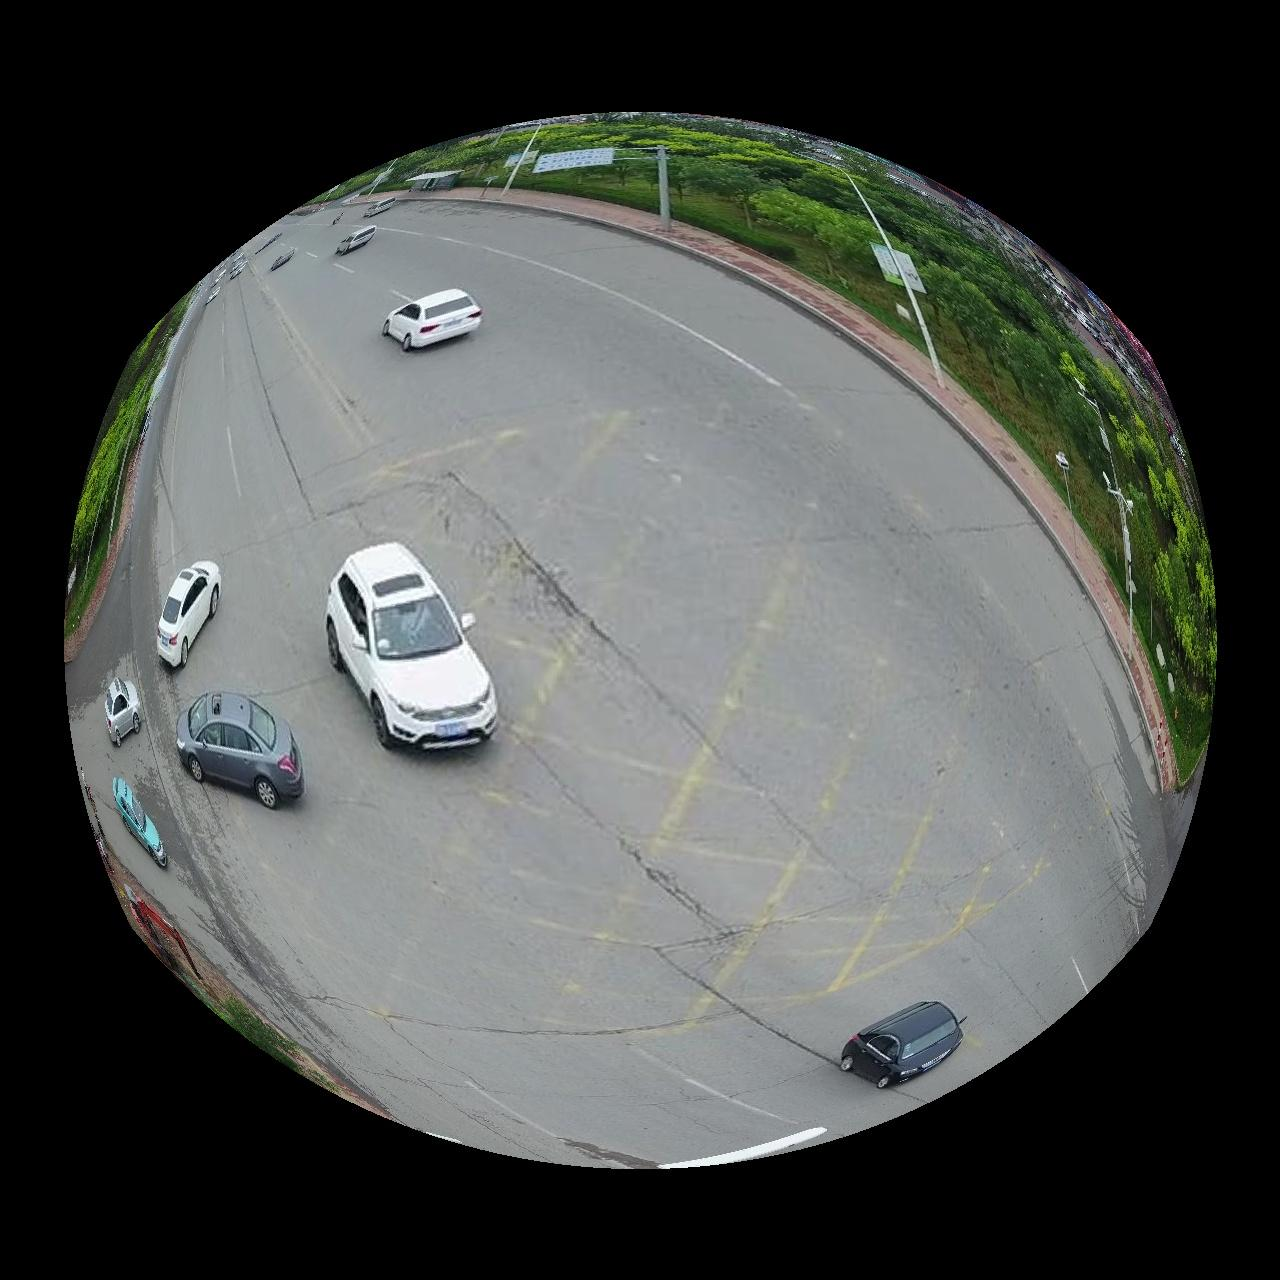cars: (324, 542, 498, 750), (175, 692, 302, 809), (840, 1003, 965, 1090), (658, 1129, 828, 1171), (155, 560, 222, 667), (381, 288, 481, 350), (111, 777, 166, 869), (101, 678, 141, 748)
trees: (376, 111, 1218, 778), (156, 560, 220, 667)
